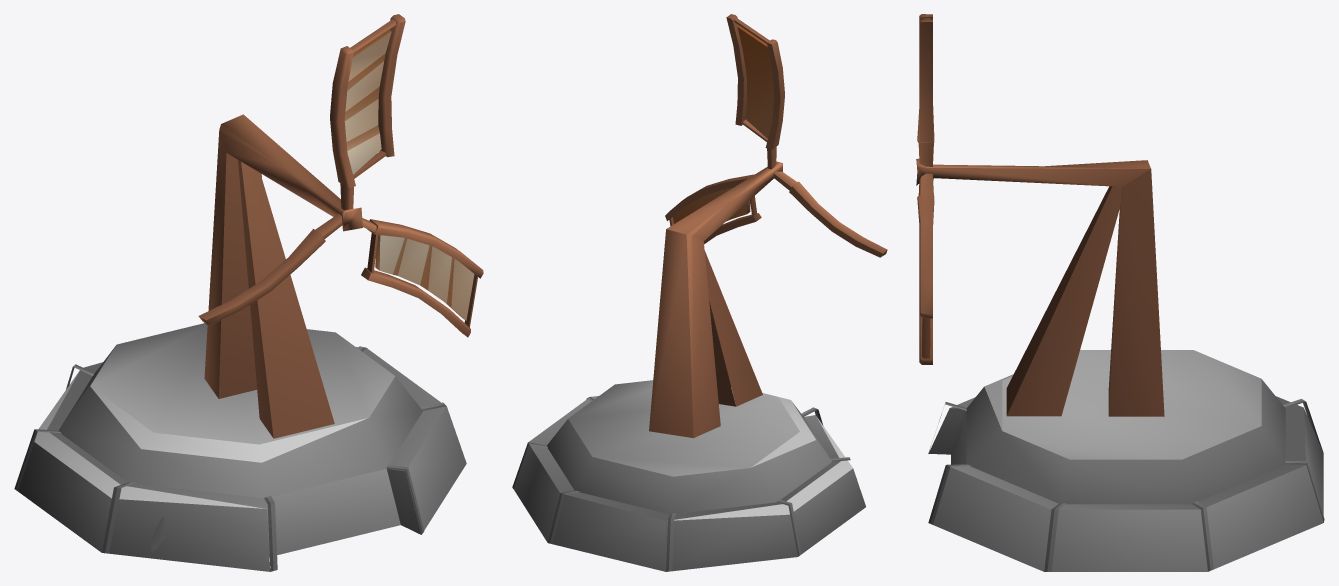
Rendered from towerlvl1.glb.
3 renders of one model, left to right at view 1: azimuth 30°, elevation 25°; view 2: azimuth 150°, elevation 25°; view 3: azimuth 270°, elevation 25°, orthographic. The views are drawn at different scales.
Parts seen in each view (by area): view 1: towerlvl1, Cube.016, Cube.030; view 2: towerlvl1, Cube.016, Cube.030; view 3: towerlvl1, Cube.016, Cube.030.
Boxes of the visible parts, x1,y1,x2,y2 form: towerlvl1: (14,323,466,571); Cube.016: (204,114,362,438); Cube.030: (198,14,483,337); towerlvl1: (512,380,865,571); Cube.016: (649,161,782,437); Cube.030: (665,14,887,257); towerlvl1: (928,350,1324,571); Cube.016: (916,158,1164,416); Cube.030: (917,14,934,364).
Size of the model in its own units: 3.42 by 4.68 by 3.52.
1 material, 1 textured.
